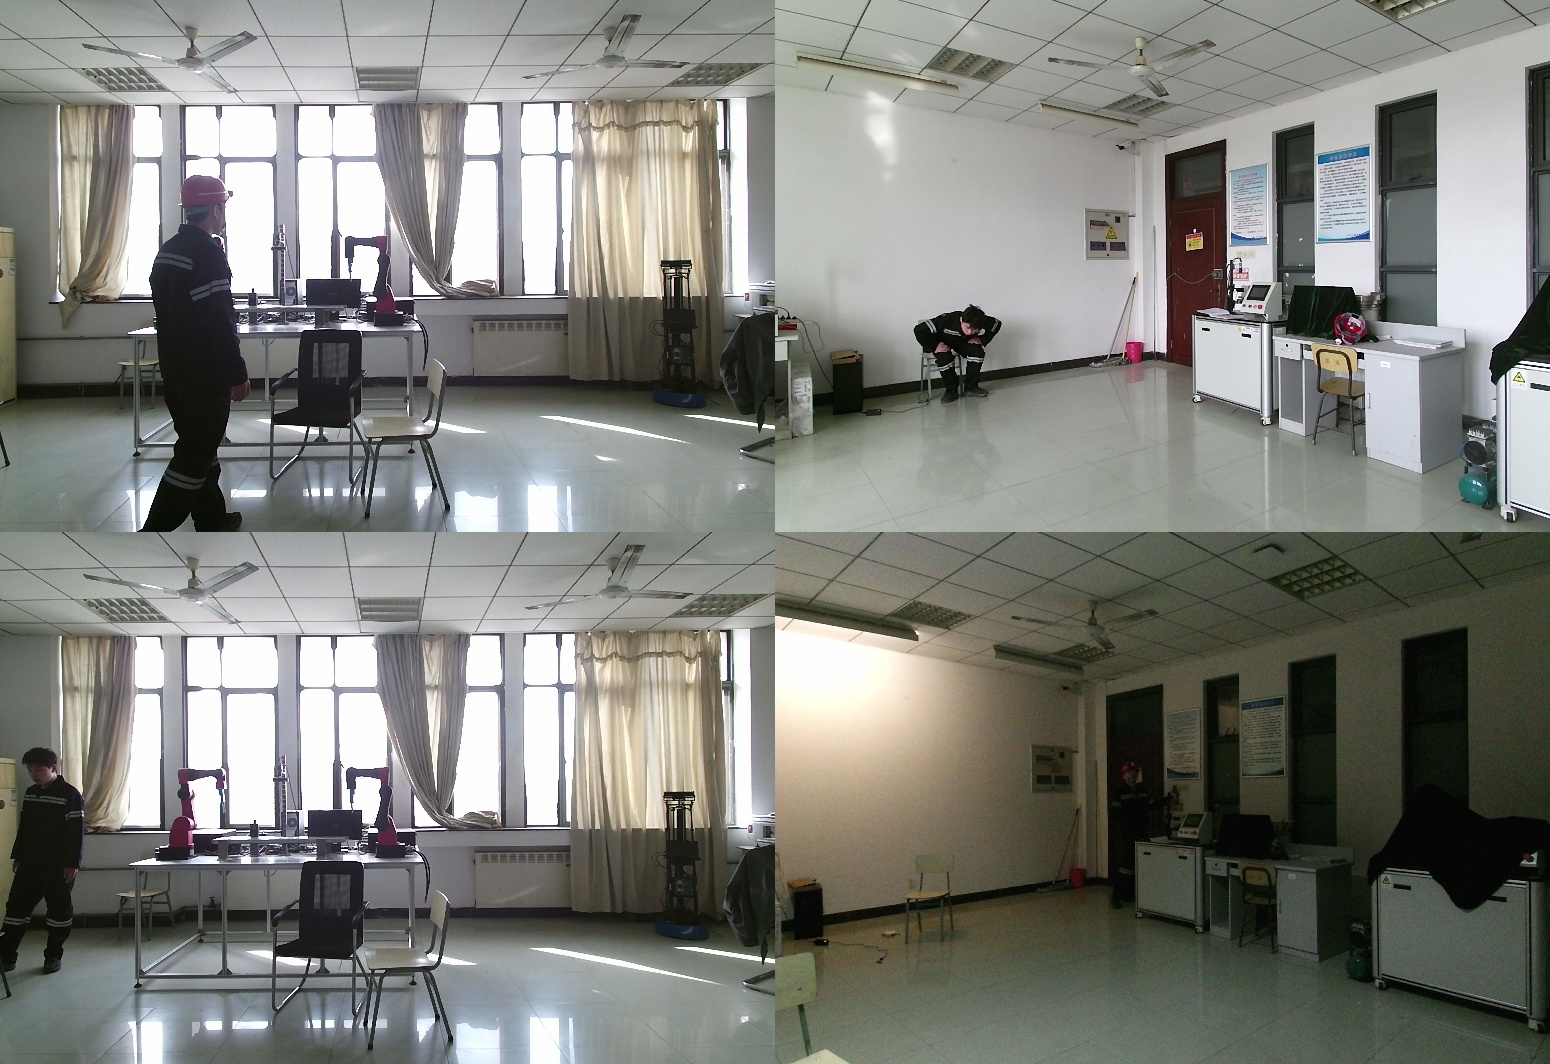person: (138, 176, 258, 532), (1, 747, 91, 973), (1106, 761, 1169, 913), (913, 309, 1000, 407)
